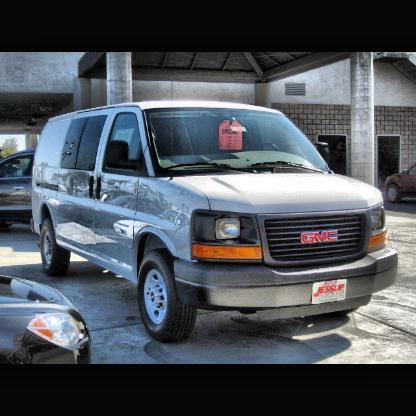GMC Savana Van 2012: (32, 99, 400, 347)
